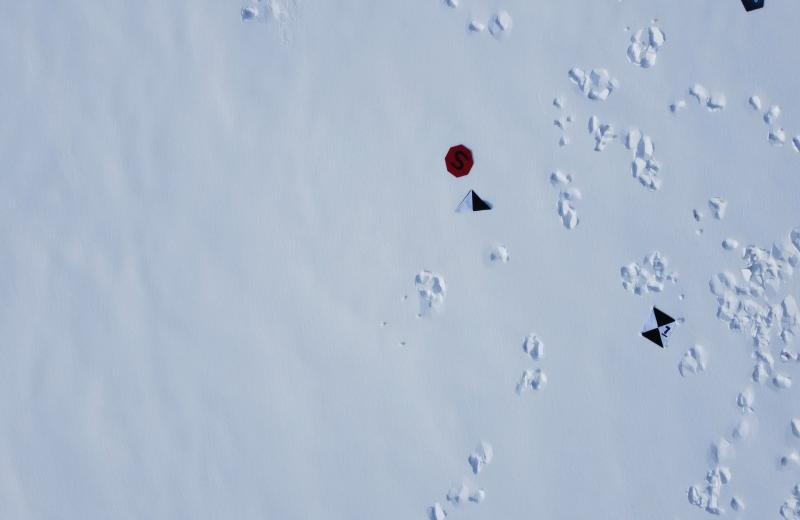Octagon: (446, 143, 475, 178)
Pentagon: (740, 0, 772, 25)
